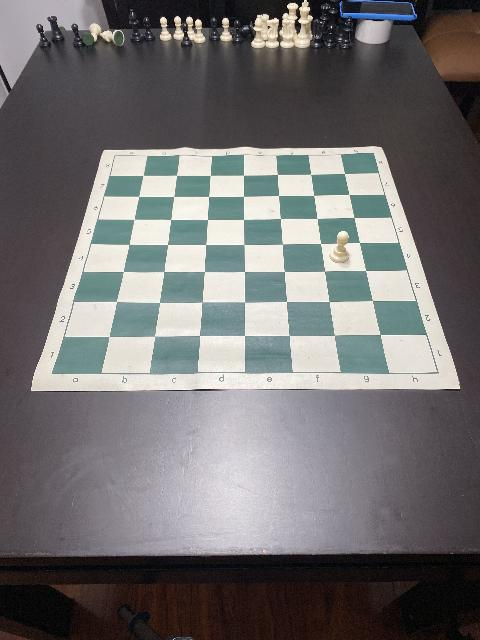board: (31, 145, 461, 391)
white-pawn: (329, 230, 350, 264)
